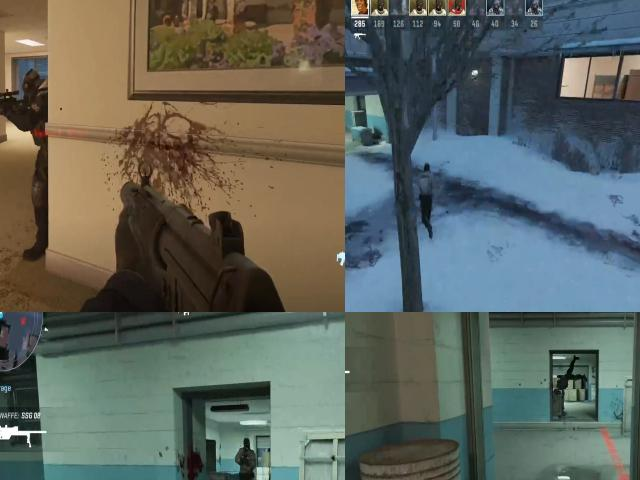CT: (7, 69, 48, 206)
CT-Head: (22, 63, 48, 109)
Dead: (559, 355, 583, 394)
T: (237, 437, 254, 480), (420, 161, 436, 202)
T-Head: (422, 160, 434, 177), (242, 439, 252, 455)
